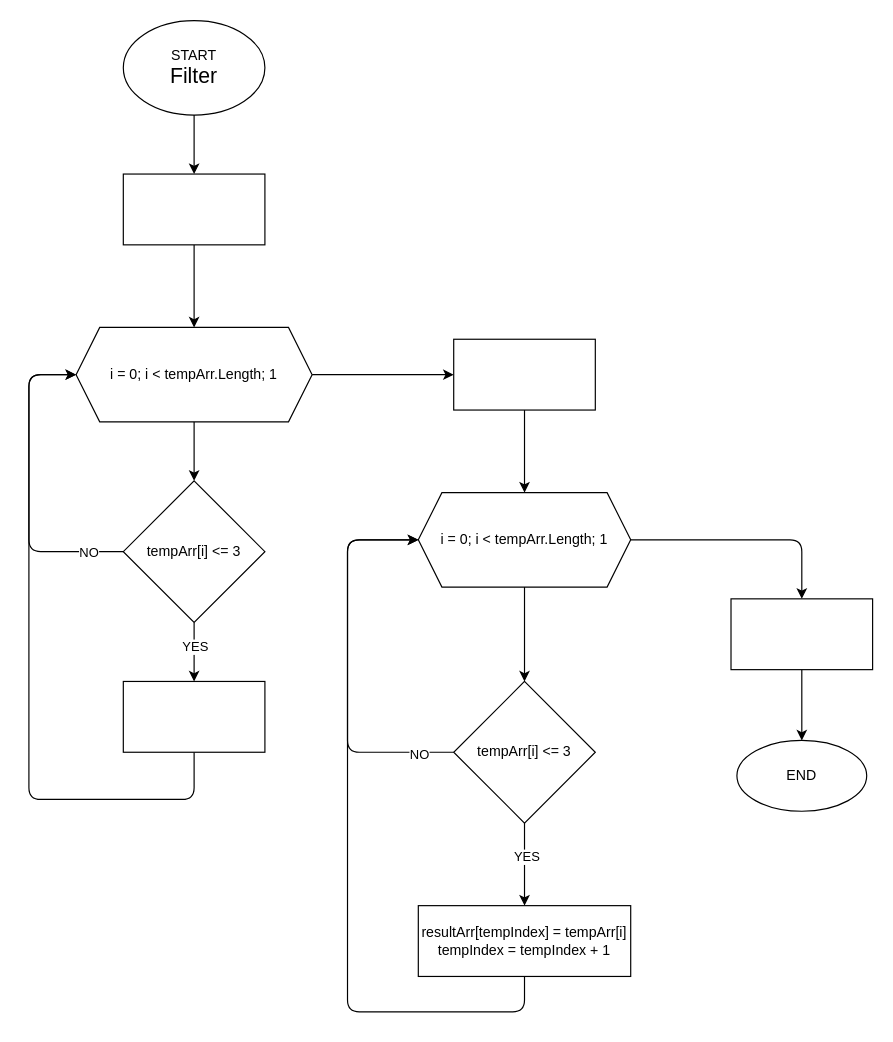
Image size: 893x1042. Some labels were removed from this diagram. Here are the shapes that lost their labels. From the top down, the centre of each, then its label:
At [193,209]: "tempArr [ ] count = 0".
At [524,374]: "resultArr [ ] = new [ ] tempIndex = 0".
At [801,634]: "return resultArr".
At [193,716]: "count = count + 1".
